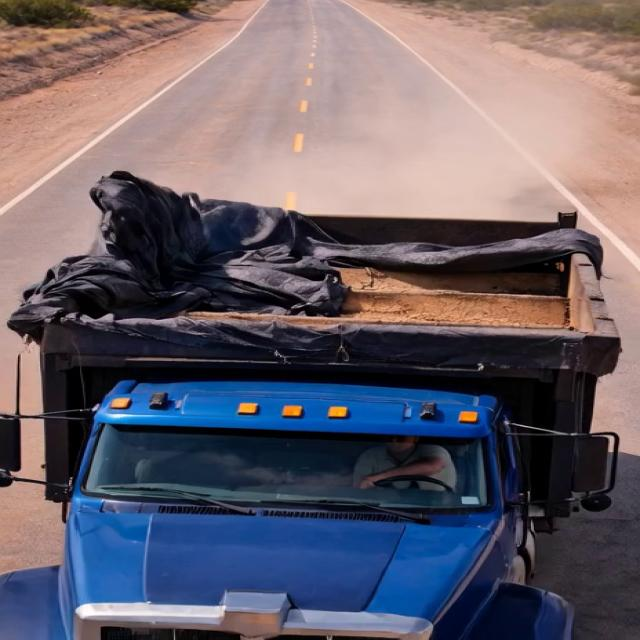Box: (28, 166, 612, 374)
Truck: (5, 143, 631, 629)
